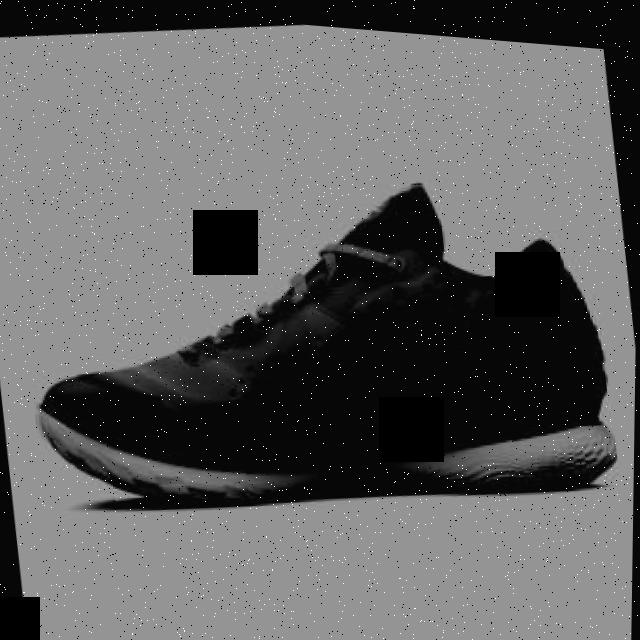shoe: (7, 128, 625, 545)
